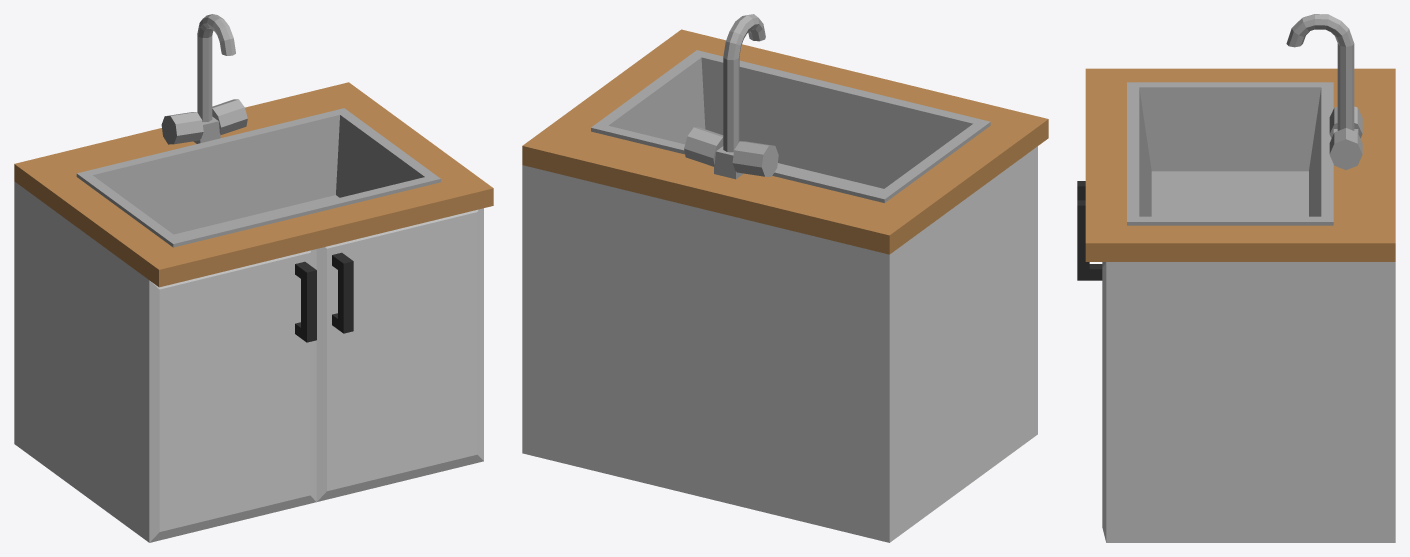
Rendered from WorkTable_w_crane.fbx.
3 renders of one model, left to right at view 1: azimuth 30°, elevation 25°; view 2: azimuth 150°, elevation 25°; view 3: azimuth 270°, elevation 25°, orthographic. The views are drawn at different scales.
Visible parts, largest first — view 1: Cube; view 2: Cube; view 3: Cube.
Boxes of the visible parts, box(x1,y1,x2,y2) form: Cube: box(14, 14, 493, 542); Cube: box(522, 14, 1048, 542); Cube: box(1077, 14, 1395, 542).
Bounding box in the file's own units: 100 × 118 × 77.
